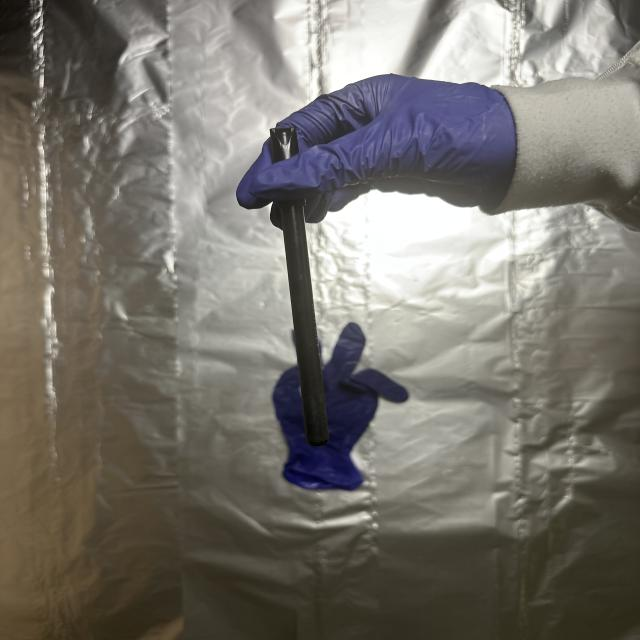gloves_contaminated: (237, 74, 516, 222)
